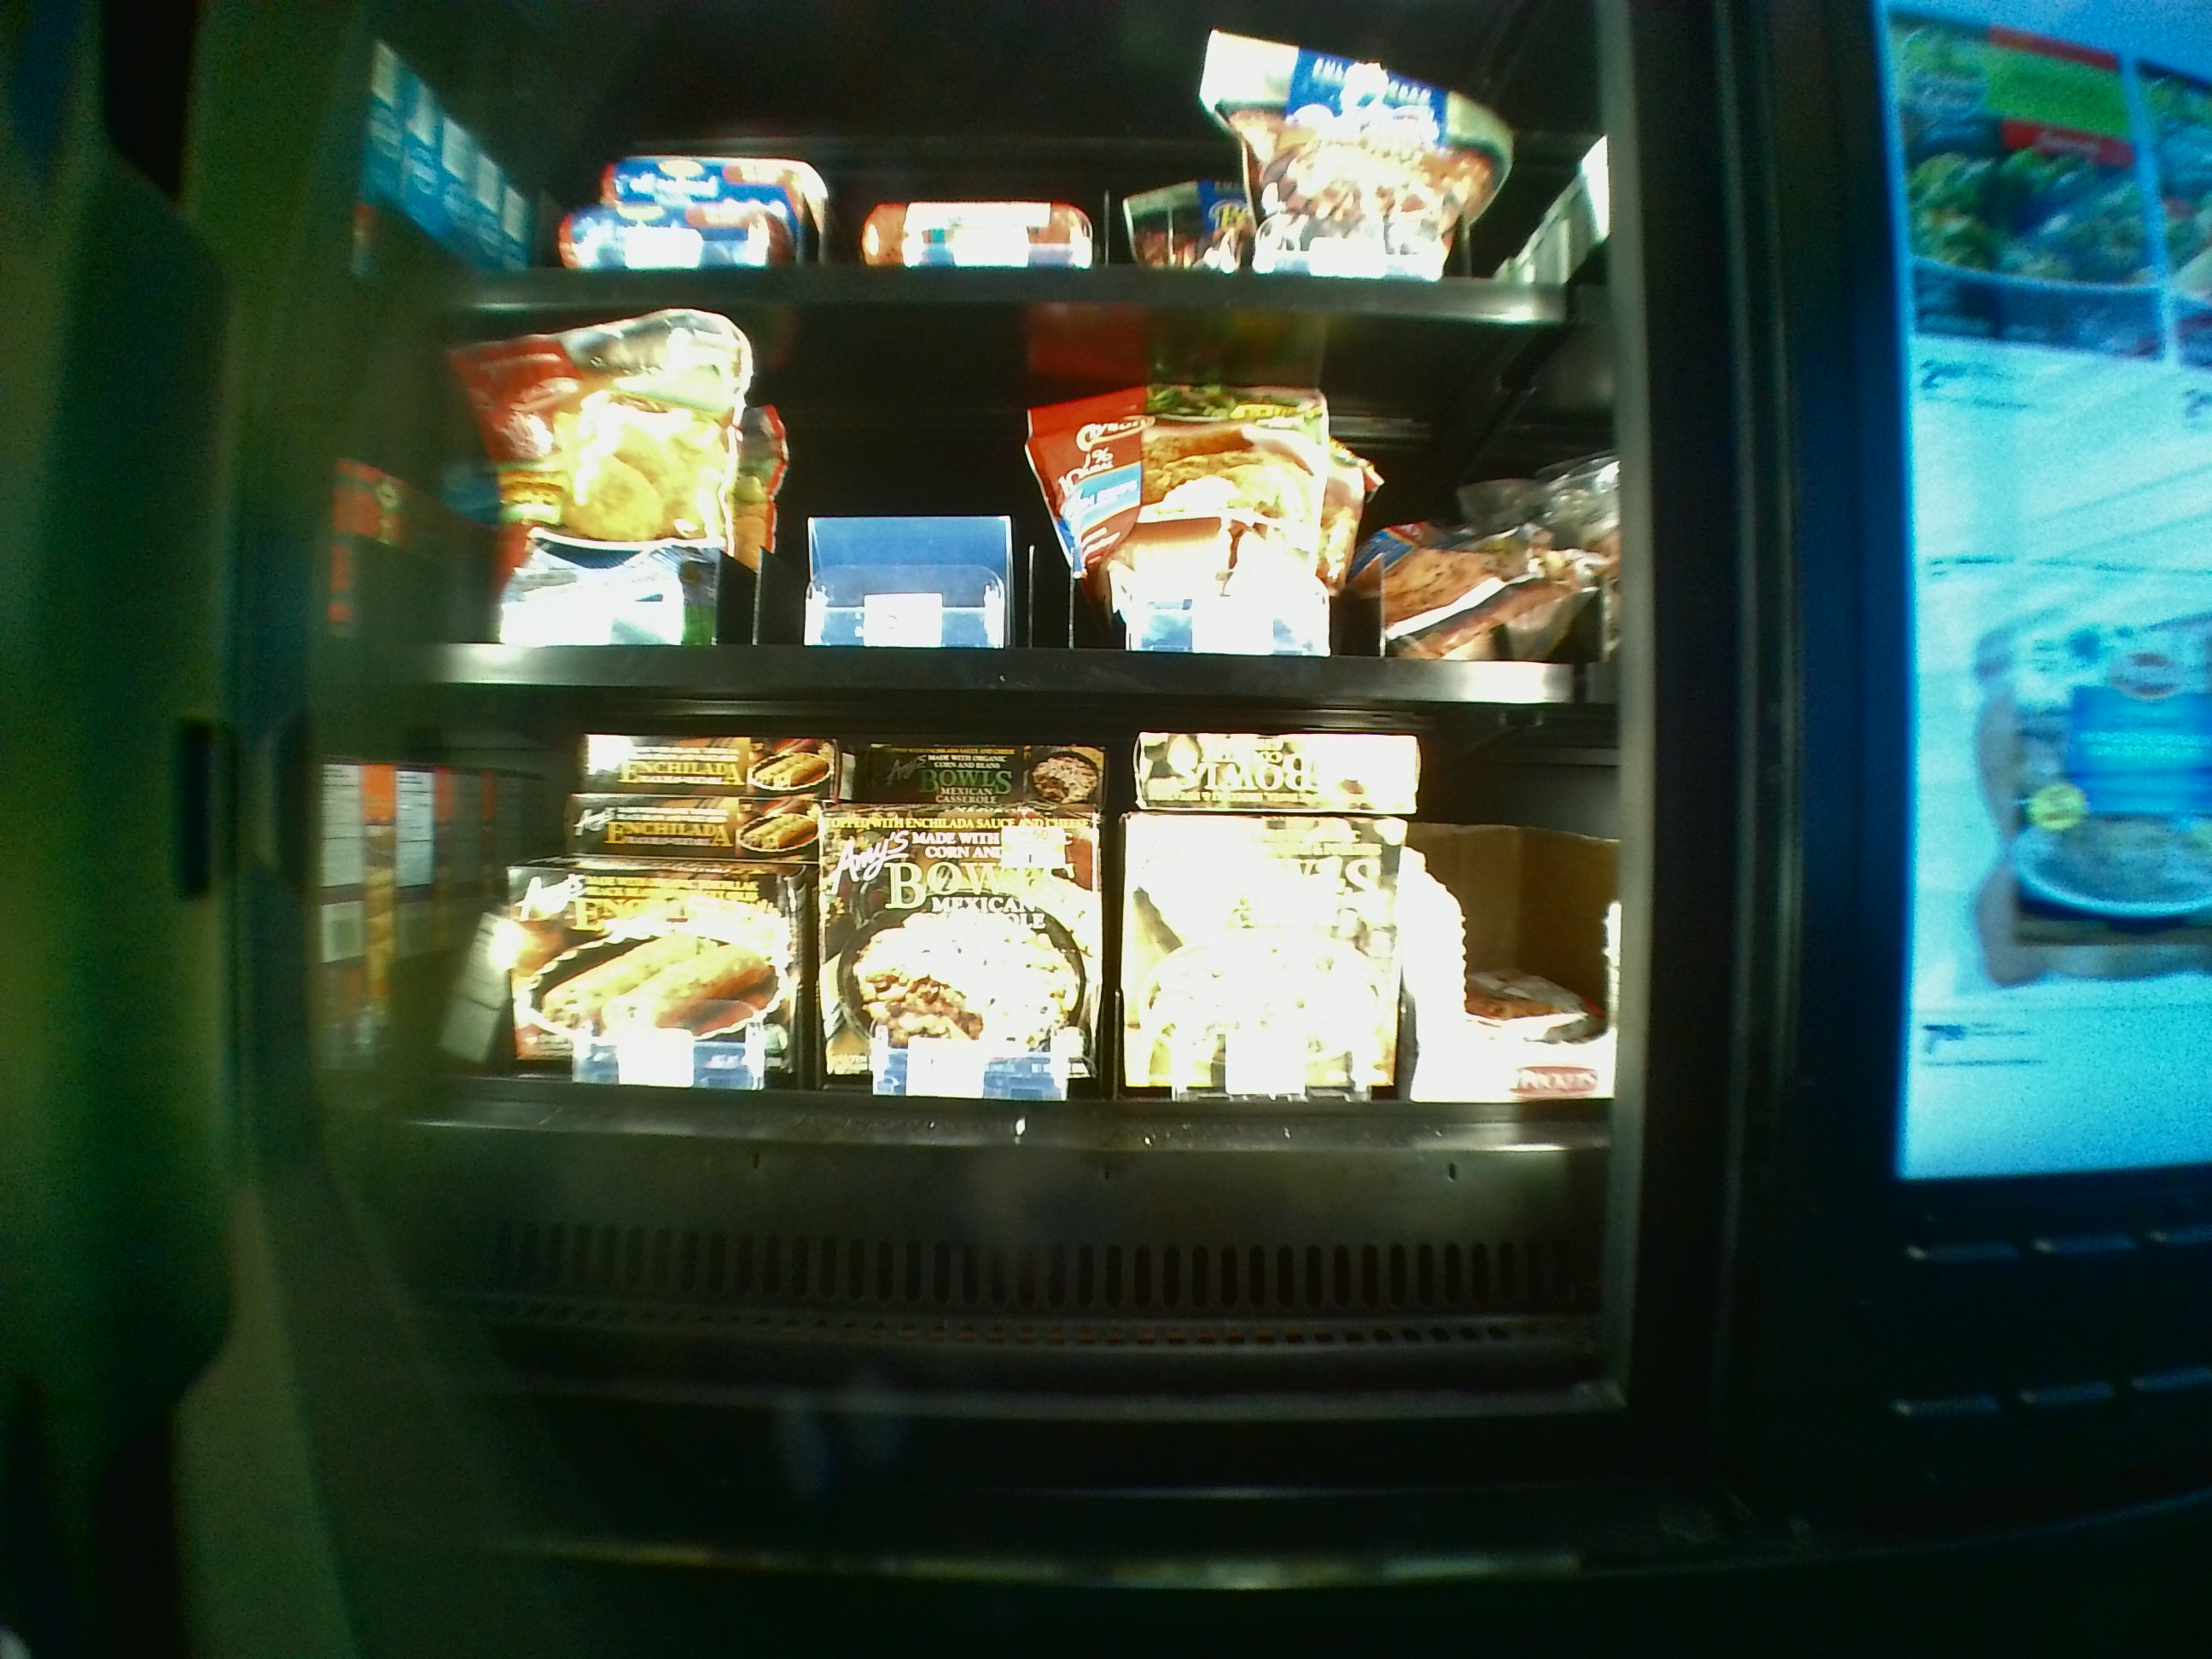shelf: (350, 708, 1599, 1394), (350, 319, 1599, 697)
